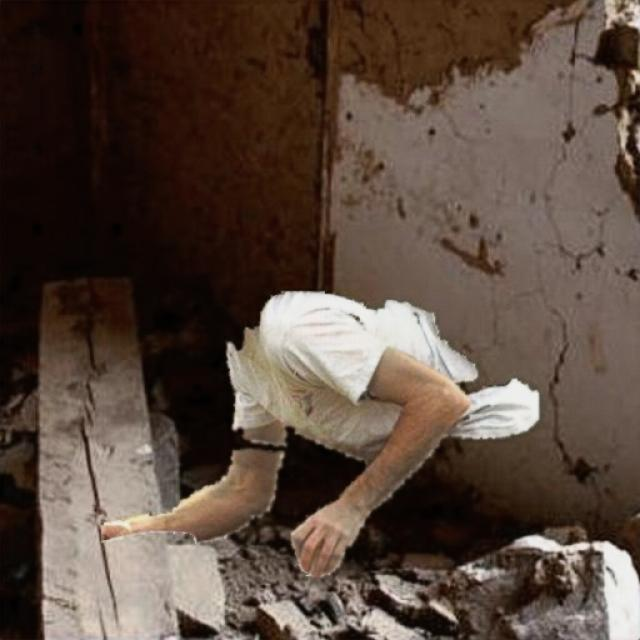Person in Rubble: (101, 292, 538, 576)
